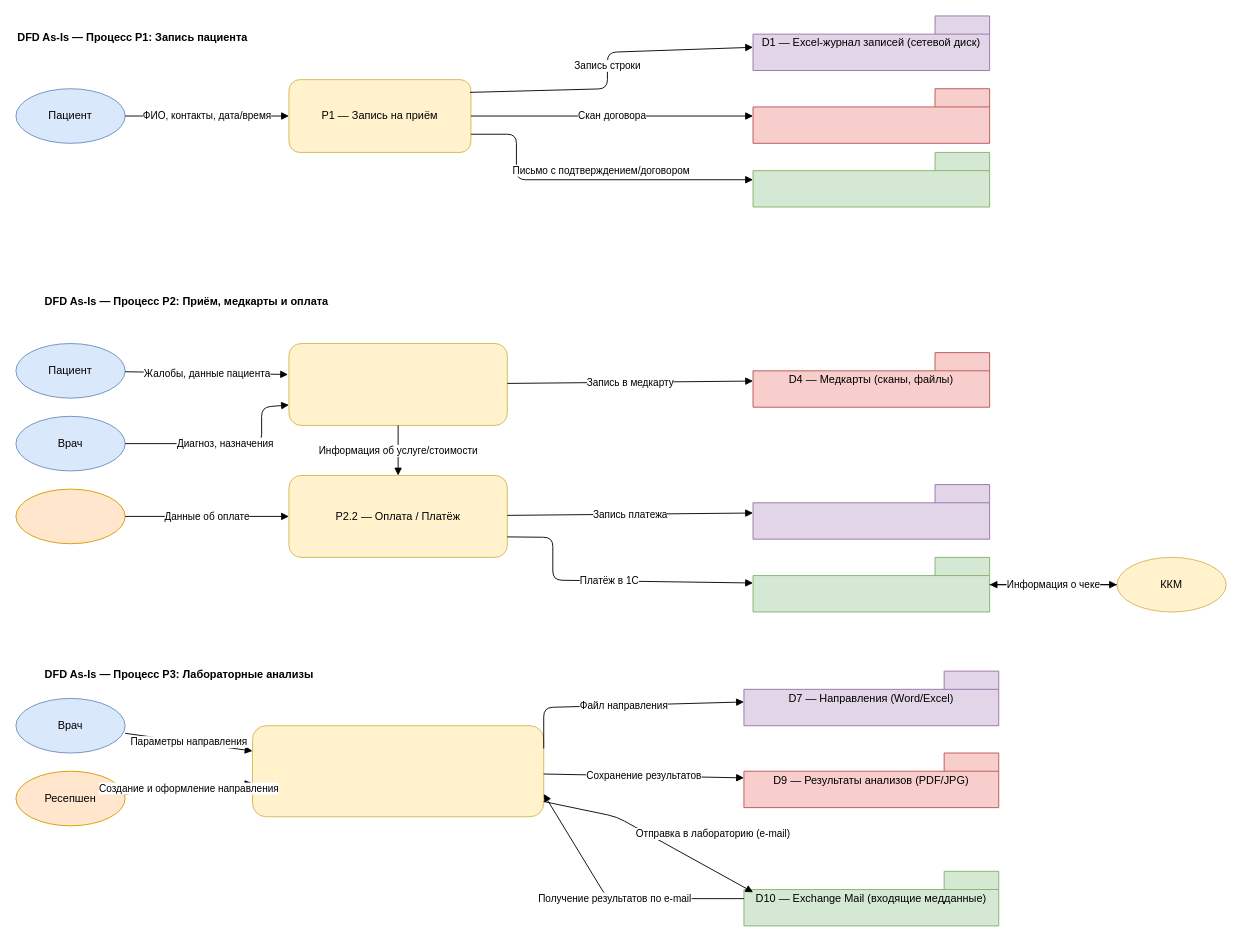
Image size: 1242x942. Some labels were removed from this diagram. Here are the shapes that lost their labels. From the top down, the centre of each, then its label:
point 871,115: D2 — Скан договора (PDF/JPG, общий диск)
point 871,179: D3 — Exchange Mail Server
point 397,384: P2.1 — Приём / Медкарта
point 70,516: Кассир
point 871,511: D6 — Excel учёт платежей
point 871,584: D5 — 1С:Бухгалтерия (файловый режим)
point 398,771: P3 — Направление и результаты анализов
